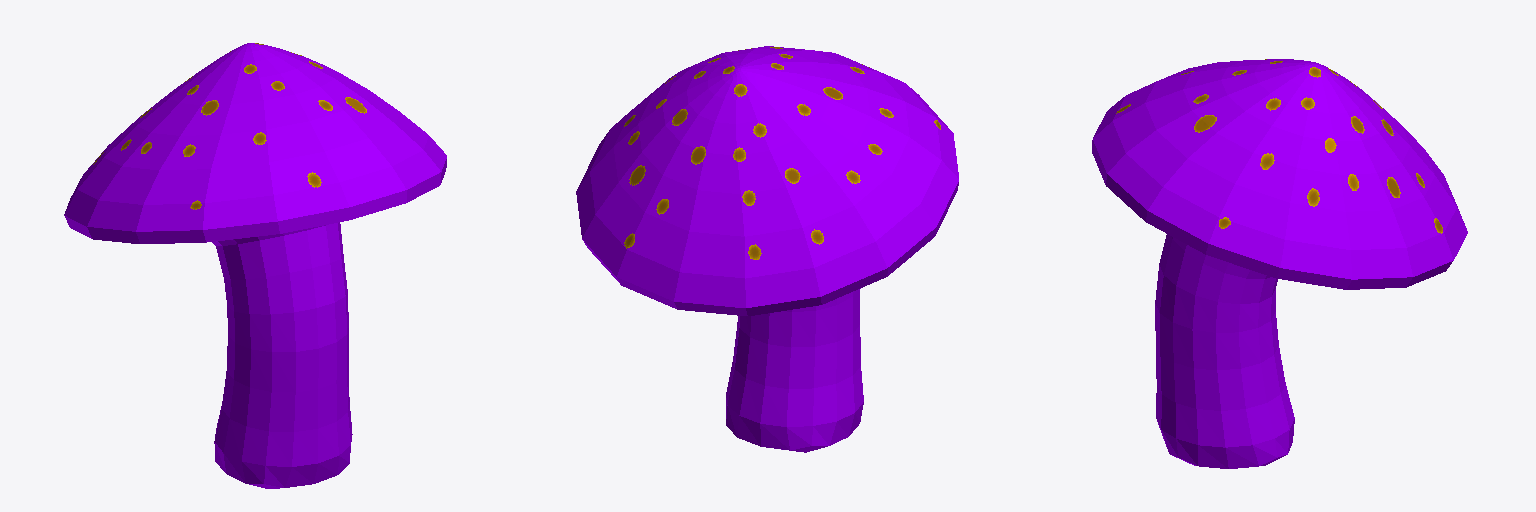
3 views of the same model, side by side, from view 1: azimuth 30°, elevation 25°; view 2: azimuth 150°, elevation 25°; view 3: azimuth 270°, elevation 25° (orthographic).
Parts seen in each view (by area): view 1: Circle; view 2: Circle; view 3: Circle.
Part boxes in pixels (x1,y1,x2,y2): Circle: (64,43,446,488); Circle: (576,46,958,452); Circle: (1092,59,1467,468).
Size of the model in its own units: 0.6831 by 0.7627 by 0.6601.
1 materials, 1 textured.